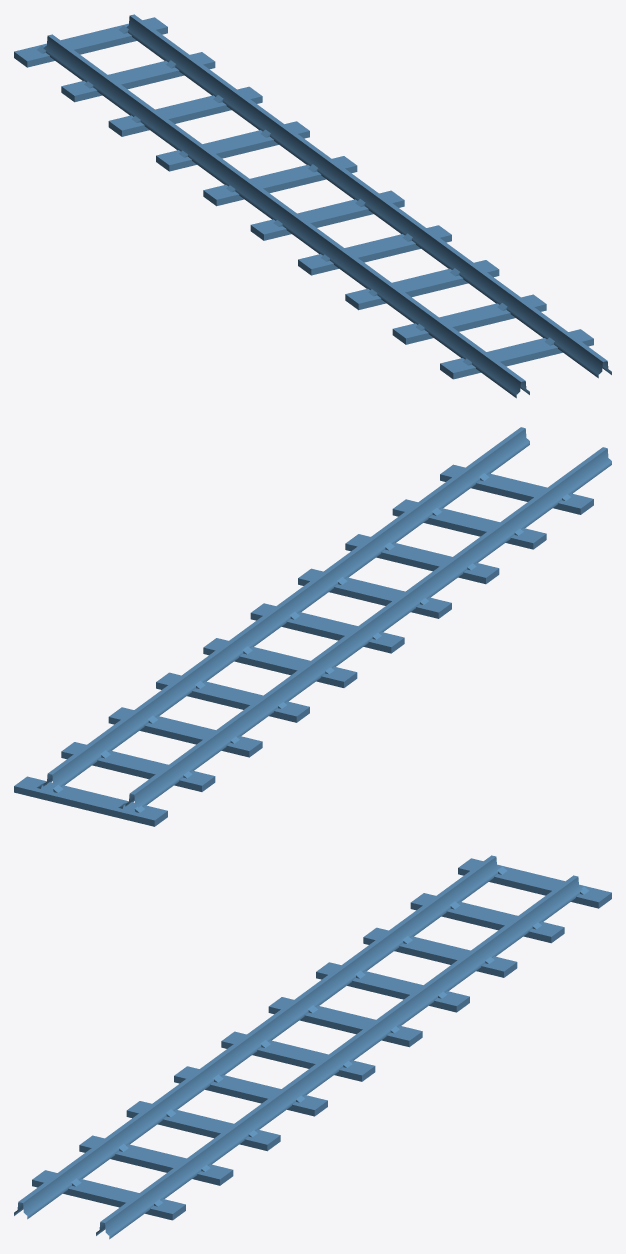
Rendered from Rail_Road.fbx.
3 views of the same model, one above another, from view 1: azimuth 30°, elevation 25°; view 2: azimuth 150°, elevation 25°; view 3: azimuth 330°, elevation 25° (orthographic).
Visible parts, largest first — view 1: Rails, Boards; view 2: Rails, Boards; view 3: Rails, Boards.
Boxes of the visible parts, x1,y1,x2,y2 form: Rails: (43, 14, 611, 398); Boards: (14, 17, 593, 379); Rails: (43, 427, 611, 807); Boards: (14, 464, 593, 826); Rails: (14, 855, 582, 1239); Boards: (32, 858, 611, 1220).
Size of the model in its own units: 1.72 by 0.2415 by 10.14.
